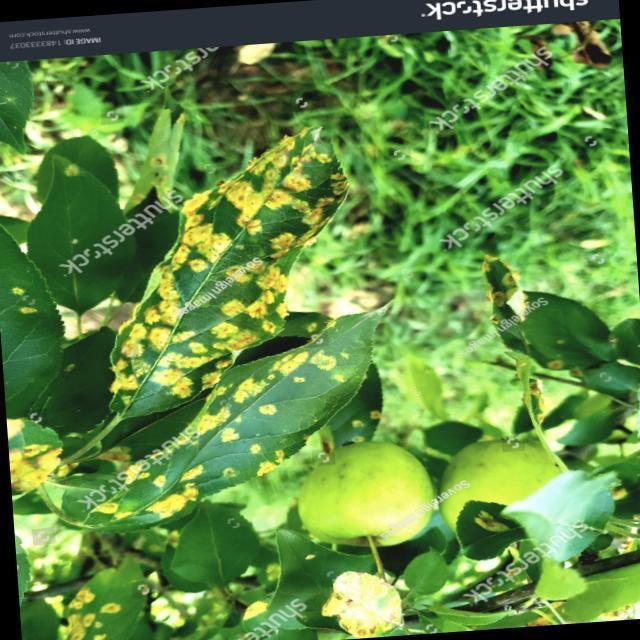Mosaic Virus: (22, 149, 364, 532)
